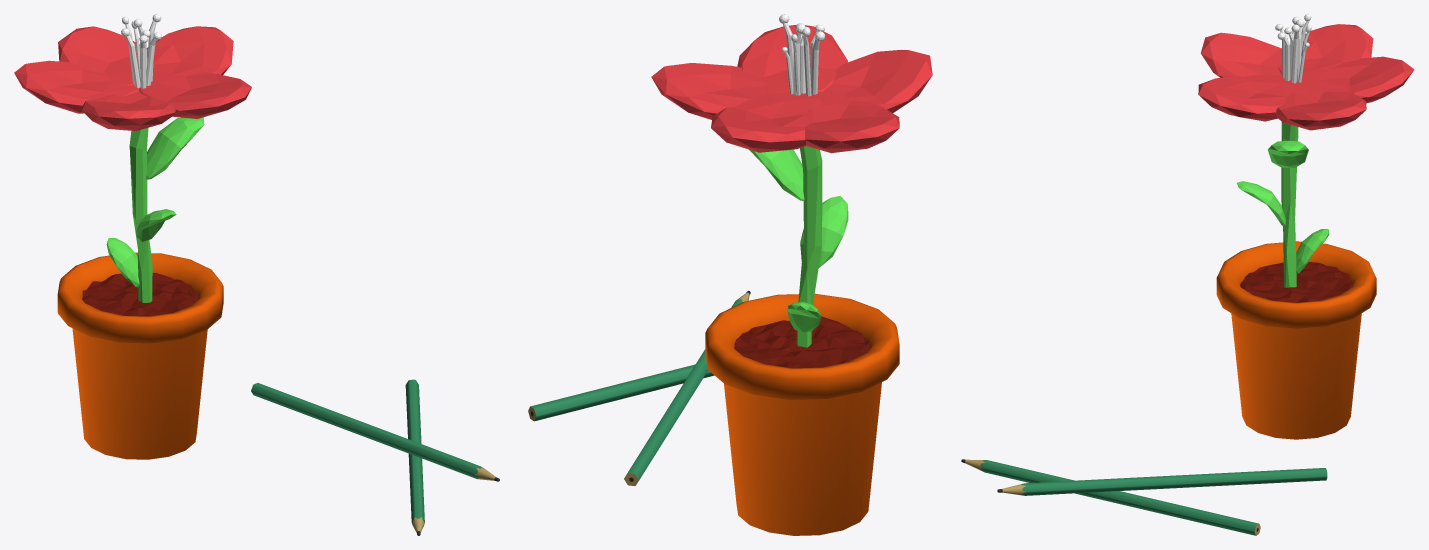
3 views of the same model, side by side, from view 1: azimuth 30°, elevation 25°; view 2: azimuth 150°, elevation 25°; view 3: azimuth 270°, elevation 25° (orthographic). The views are drawn at different scales.
Parts seen in each view (by area): view 1: Cylinder.009_0, Icosphere.002, CRAYON_01.001, Icosphere.023, Circle.001, Cylinder_0, CRAYON_01; view 2: Cylinder.009_0, Icosphere.002, Circle.001, Icosphere.023, Cylinder_0, CRAYON_01, CRAYON_01.001; view 3: Cylinder.009_0, Icosphere.002, CRAYON_01.001, CRAYON_01, Circle.001, Icosphere.023, Cylinder_0.
Part boxes in pixels (x1=…): Cylinder.009_0: x1=57, y1=252, x2=223, y2=459; Icosphere.002: x1=14, y1=26, x2=251, y2=130; CRAYON_01.001: x1=251, y1=383, x2=499, y2=481; Icosphere.023: x1=106, y1=117, x2=204, y2=287; Circle.001: x1=82, y1=273, x2=198, y2=316; Cylinder_0: x1=129, y1=128, x2=152, y2=302; CRAYON_01: x1=405, y1=379, x2=424, y2=535; Cylinder.009_0: x1=705, y1=293, x2=899, y2=535; Icosphere.002: x1=651, y1=25, x2=932, y2=153; Circle.001: x1=734, y1=316, x2=870, y2=368; Icosphere.023: x1=749, y1=149, x2=848, y2=332; Cylinder_0: x1=796, y1=146, x2=822, y2=347; CRAYON_01: x1=528, y1=364, x2=714, y2=421; CRAYON_01.001: x1=624, y1=290, x2=750, y2=485; Cylinder.009_0: x1=1216, y1=241, x2=1376, y2=439; Icosphere.002: x1=1198, y1=24, x2=1414, y2=130; CRAYON_01.001: x1=997, y1=468, x2=1327, y2=495; CRAYON_01: x1=961, y1=459, x2=1260, y2=535; Circle.001: x1=1240, y1=262, x2=1352, y2=302; Icosphere.023: x1=1237, y1=140, x2=1329, y2=273; Cylinder_0: x1=1281, y1=122, x2=1298, y2=287.
Size of the model in its own units: 1.89 by 2.14 by 2.19.
